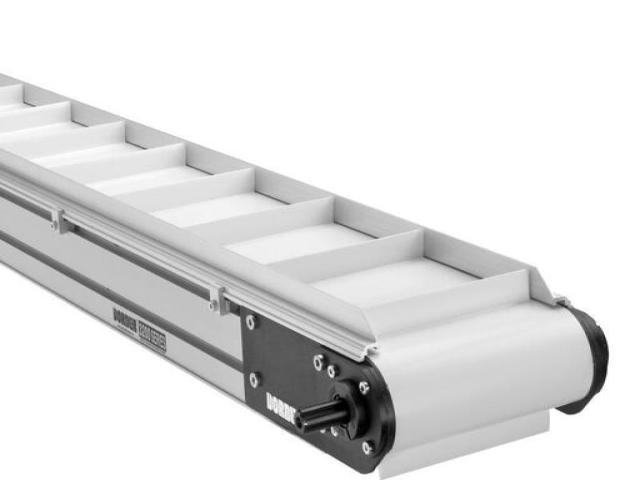conveyor: (0, 36, 611, 479)
